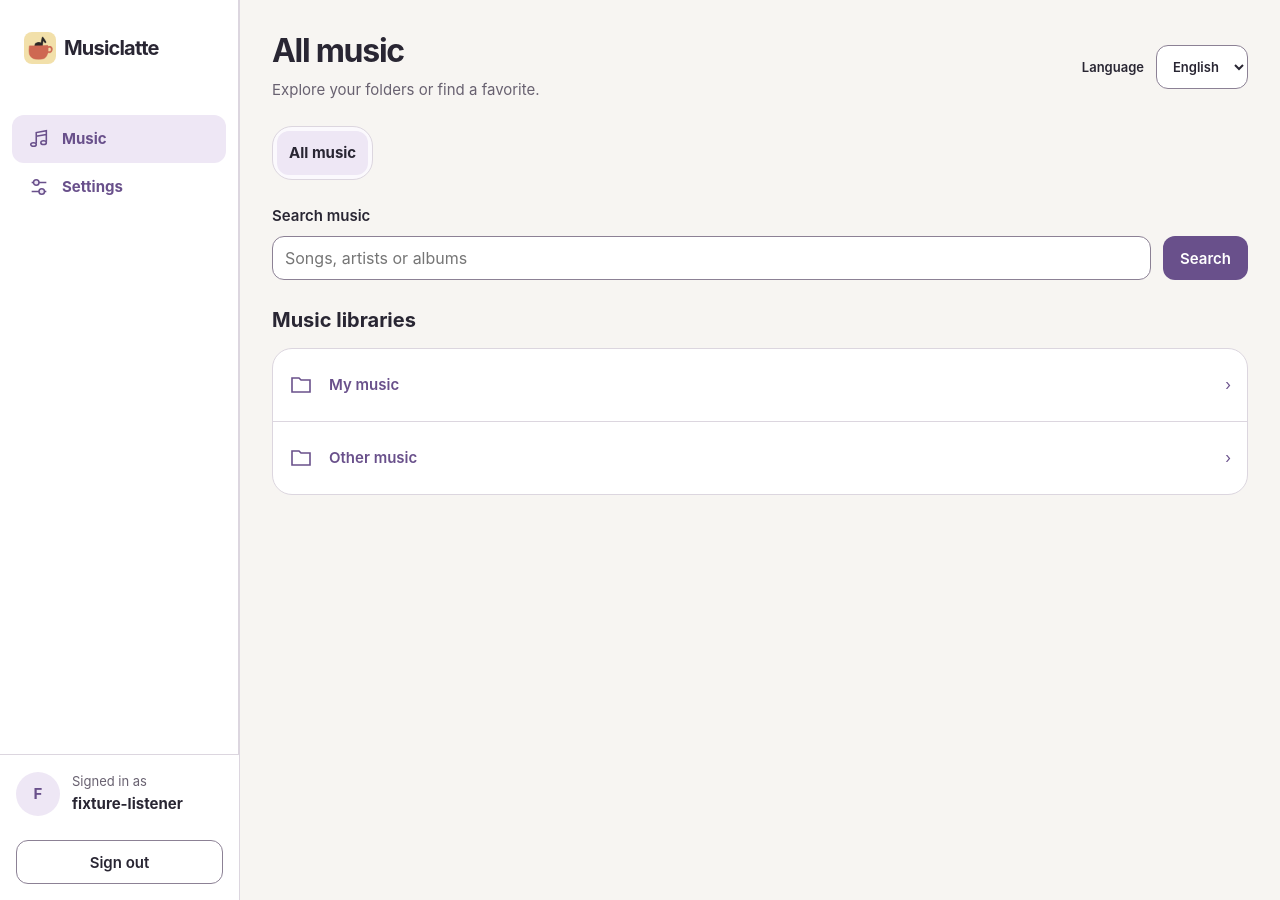
it: library UI › should preserve library selection when more than one library exists
The image size is (1280, 900).
Expected: the link "Other music ›" is shown, [289,446,1231,470]
Click the link "My music ›": (364, 385) [289,373,1231,397]
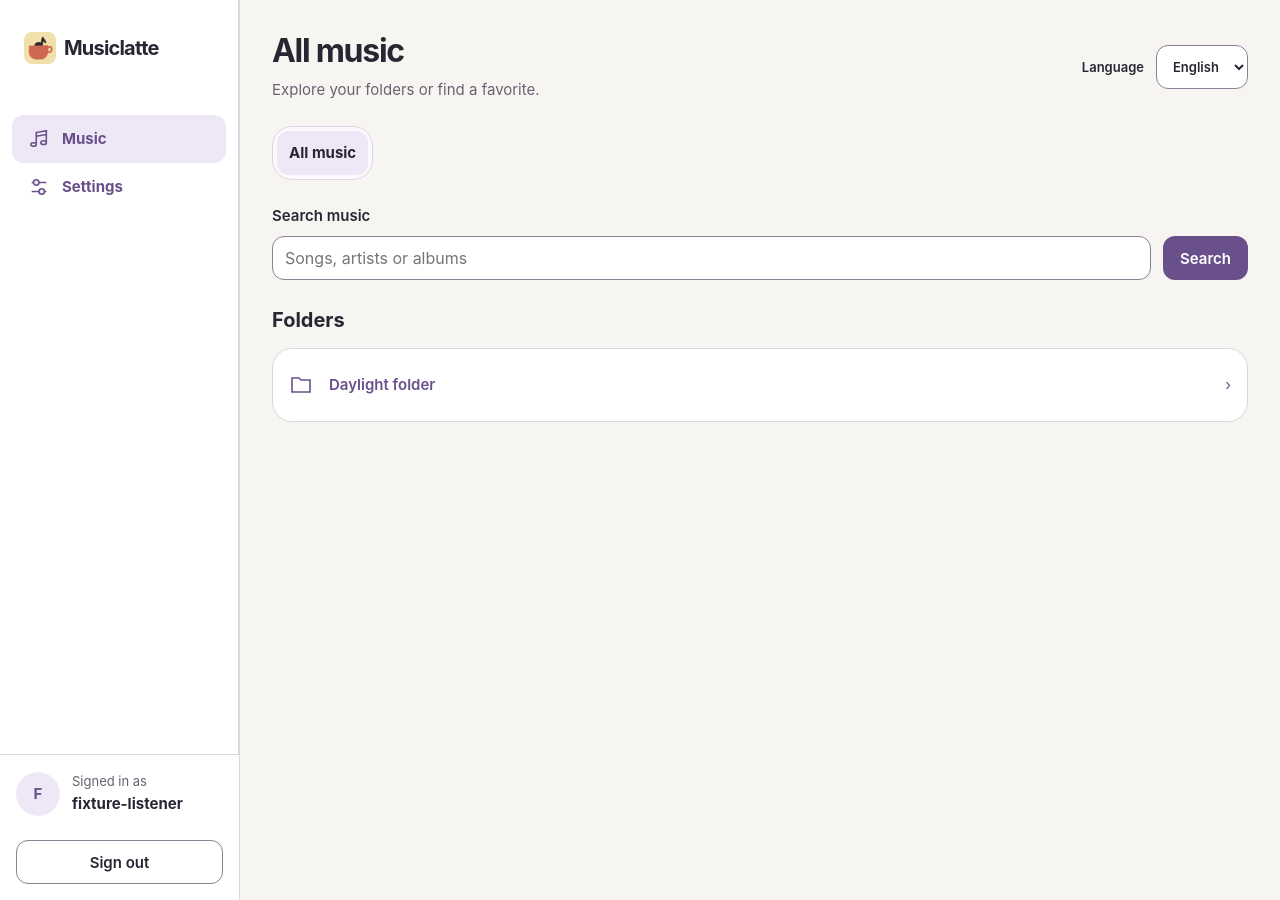
Now the link "Daylight folder ›" is shown, box [289,373,1231,397]
